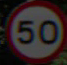Speed limit: (6, 1, 62, 57)
